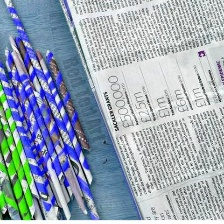news_paper: (57, 0, 224, 219)
